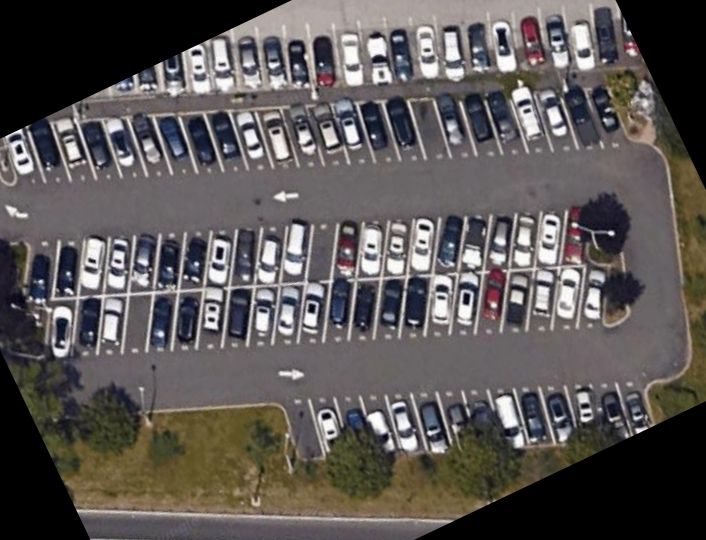parkingspot: (20, 198, 613, 365), (3, 81, 638, 189), (77, 0, 647, 103), (277, 378, 658, 463)
